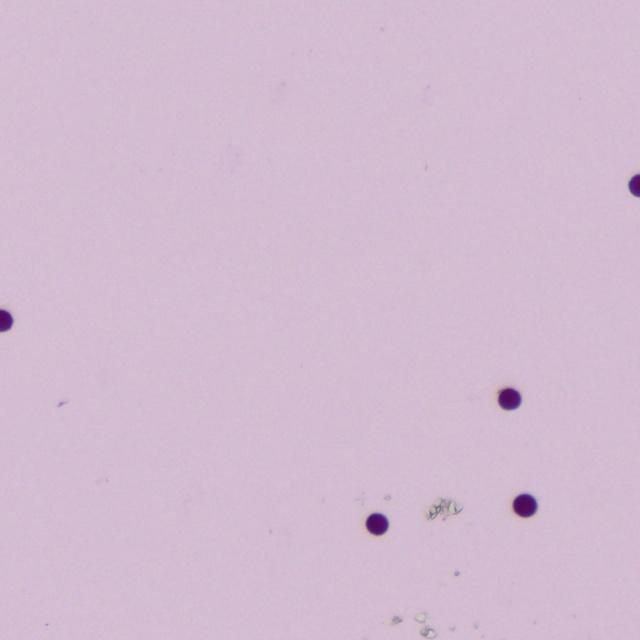viable: (512, 493, 537, 517), (498, 387, 521, 410), (366, 513, 388, 535), (0, 309, 13, 331), (628, 174, 639, 197)
